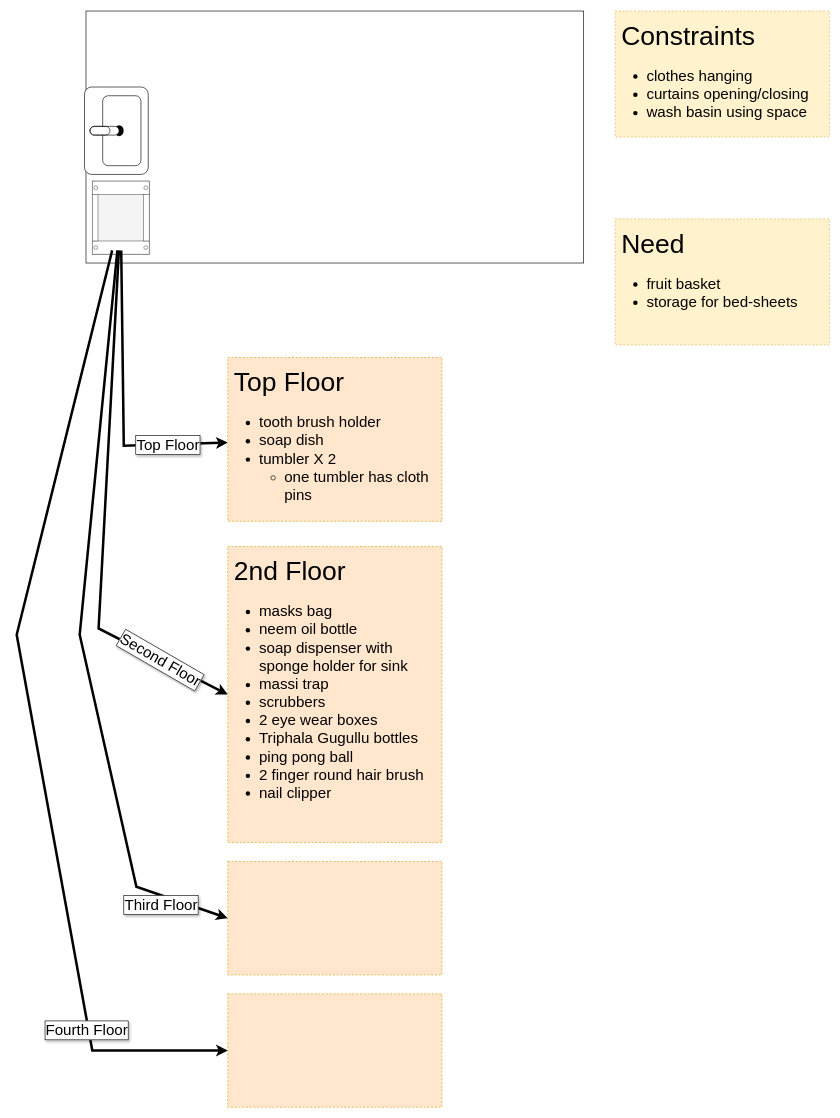
Some shapes in this 840 by 1118 pixel diagram are drawn without their labels. Here are the shapes that lost their labels. From the top down, the box of each, then its label:
(227, 861, 442, 975): 3rd Floor hangers 2.5 feet elastic rope
(227, 993, 442, 1107): 4th Floor mosquito coil holder
